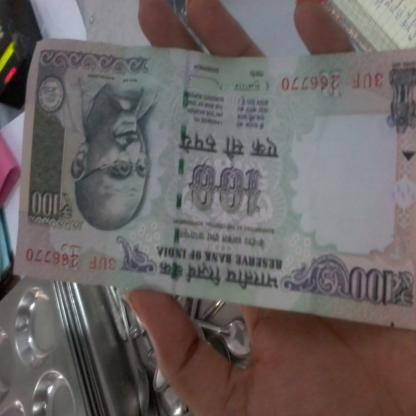Old100Front: (13, 37, 416, 330)
